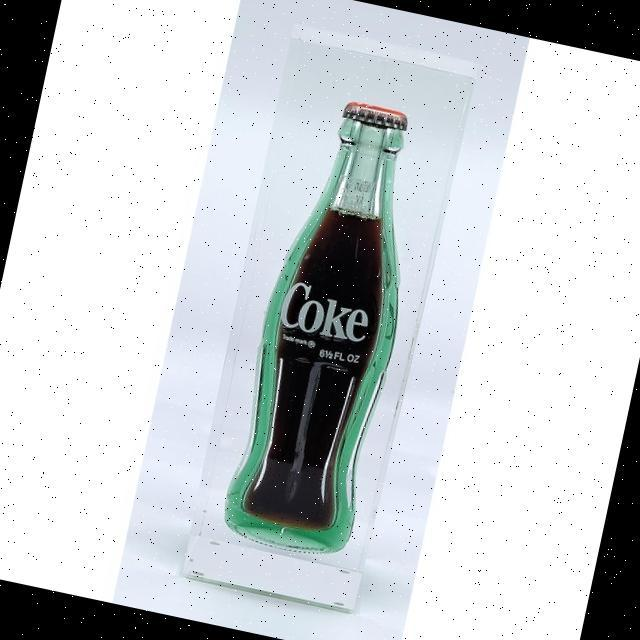coca-cola: (224, 87, 441, 552)
